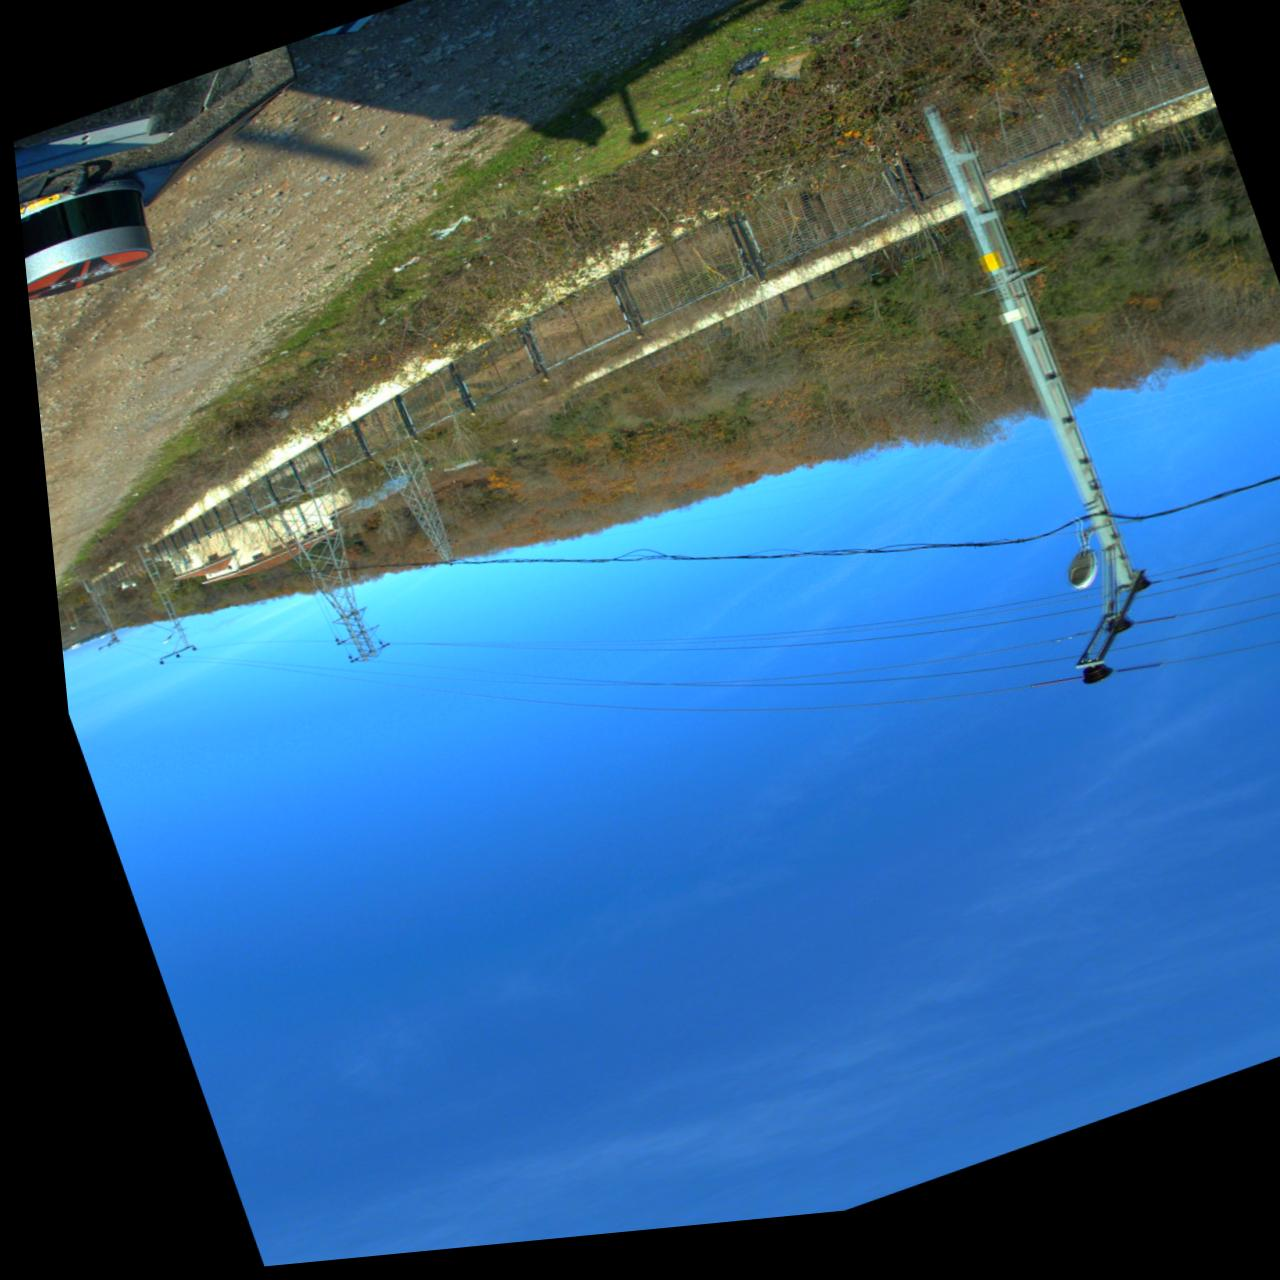Utility Pole Information Plate: (971, 268, 996, 292)
